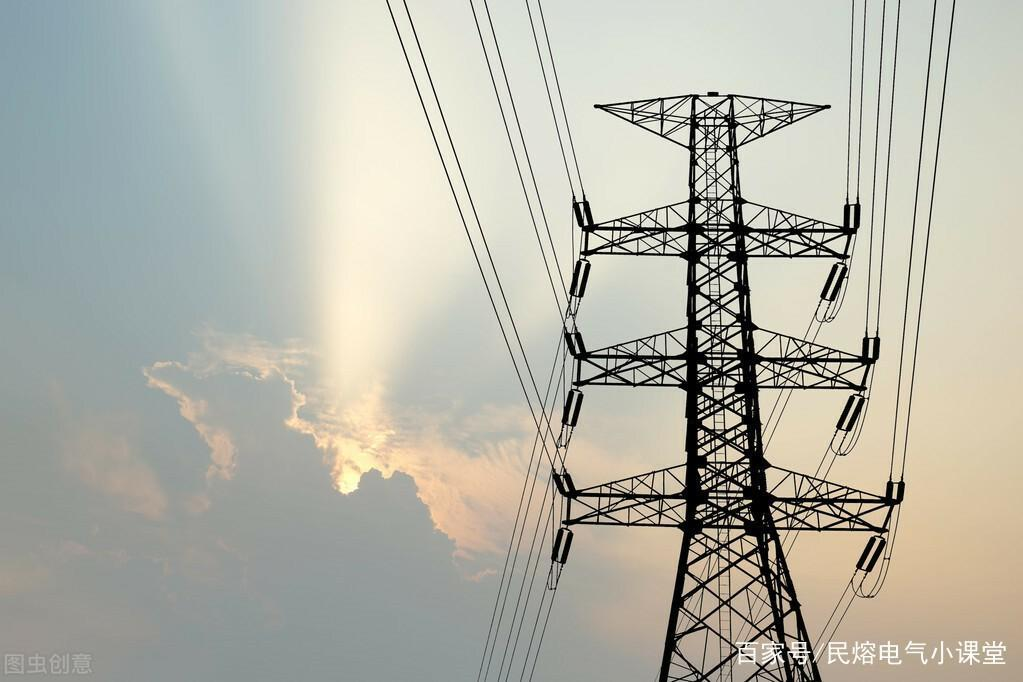power_tower: (524, 55, 907, 682)
